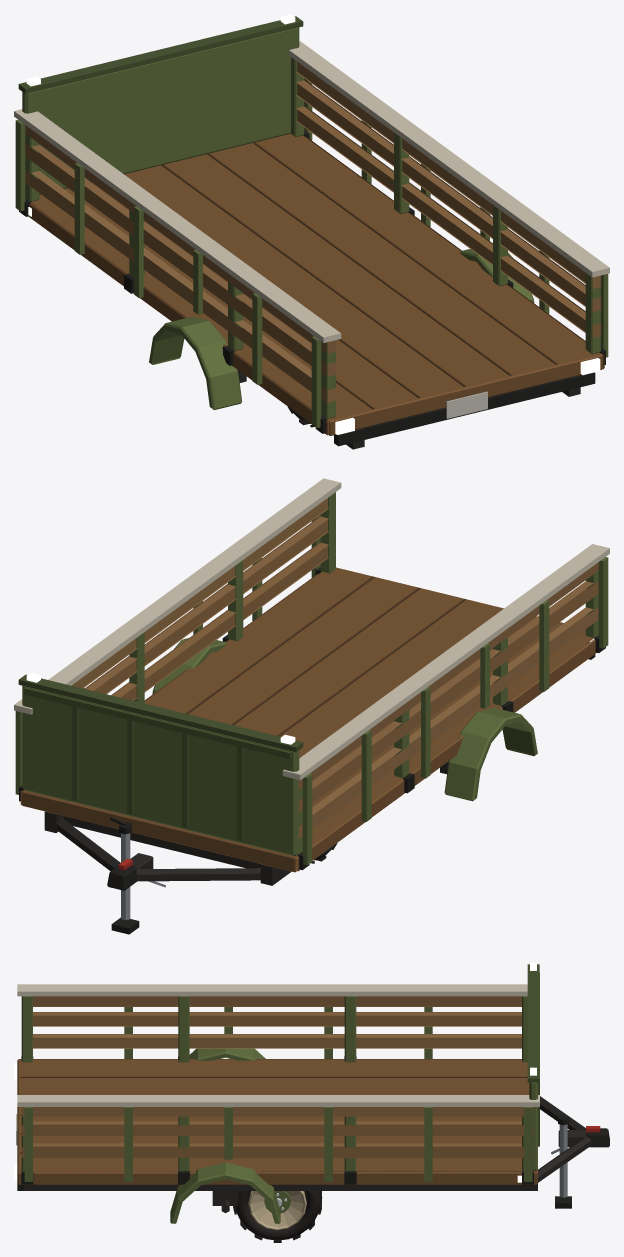
The model's file is RanchTrailer_Flatbed.glb.
3 views of the same model, one above another, from view 1: azimuth 30°, elevation 25°; view 2: azimuth 150°, elevation 25°; view 3: azimuth 270°, elevation 25° (orthographic). The views are drawn at different scales.
Visible parts, largest first — view 1: Bed, Body, Lights; view 2: Bed, Body, Hitch; view 3: Bed, Body, Wheel, Hitch.
Part boxes in pixels (x1,y1,x2,y2): Bed: [14, 16, 609, 435]; Body: [149, 249, 595, 449]; Lights: [26, 14, 600, 434]; Bed: [14, 478, 609, 872]; Body: [44, 638, 595, 885]; Hitch: [56, 817, 260, 934]; Bed: [17, 964, 539, 1184]; Body: [16, 1048, 537, 1223]; Wheel: [233, 1191, 322, 1242]; Hitch: [538, 1096, 609, 1208].
Bounding box in the file's own units: 11.09 × 8.52 × 20.84.
